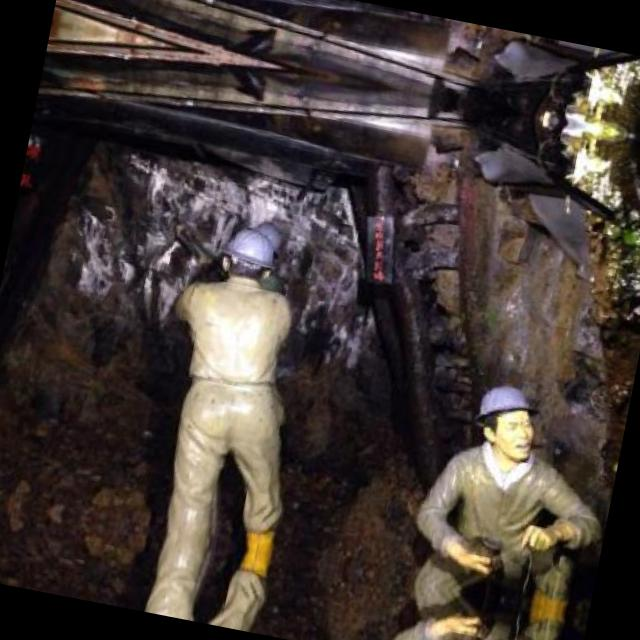helmet: (465, 374, 547, 467), (213, 221, 286, 292)
